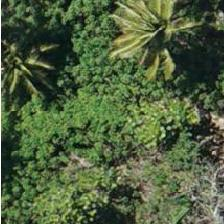Kelapa_Sawit: (111, 0, 201, 80)
